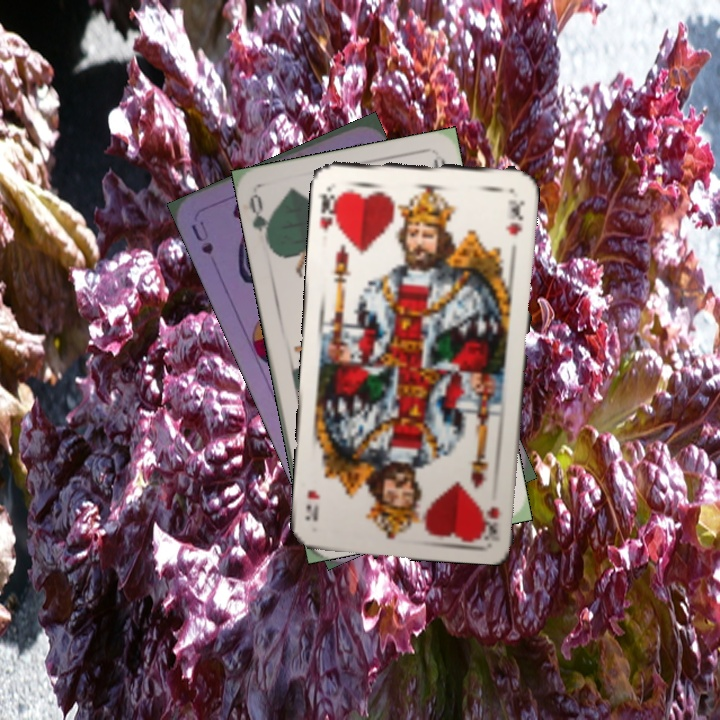GO: (245, 191, 275, 249)
HK: (315, 179, 344, 233), (483, 503, 503, 538)
SU: (187, 216, 216, 257)
